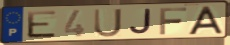4: (63, 9, 87, 39)
A: (187, 5, 226, 36)
E: (26, 10, 58, 39)
F: (159, 7, 189, 36)
J: (128, 8, 153, 36)
U: (93, 7, 123, 38)
